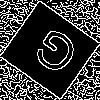G: (24, 25, 82, 86)
